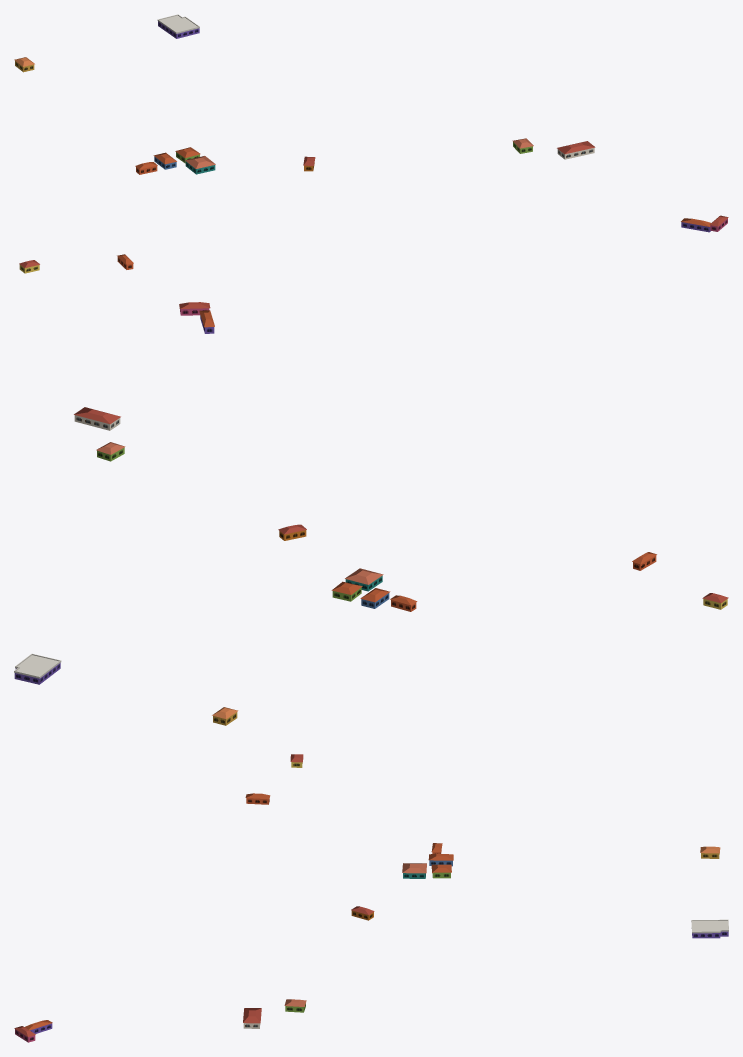
Rendered from msb_oranjestad_m16_0.glb.
3 views of the same model, one above another, from view 1: azimuth 30°, elevation 25°; view 2: azimuth 150°, elevation 25°; view 3: azimuth 270°, elevation 25° (orthographic). The views are drawn at different scales.
Parts seen in each view (by area): view 1: msb_oranjestad_m16_0_lod0; view 2: msb_oranjestad_m16_0_lod0; view 3: msb_oranjestad_m16_0_lod0.
Part boxes in pixels (x1,y1,x2,y2): msb_oranjestad_m16_0_lod0: (14, 14, 728, 273); msb_oranjestad_m16_0_lod0: (14, 302, 728, 725); msb_oranjestad_m16_0_lod0: (14, 754, 728, 1042).
Size of what is drawn, in the model's own units: 364 by 8.79 by 383.
Materials: 3 (1 with a texture image).
